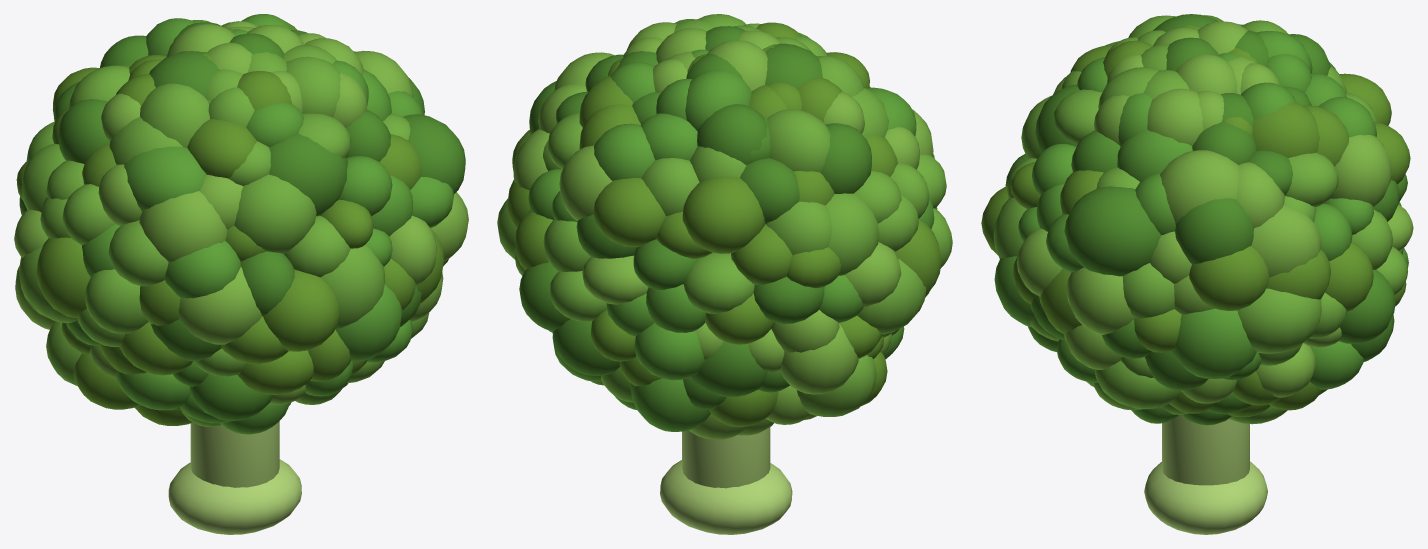
The model's file is Brocoli.glb.
The picture shows the model from 3 angles, left to right: view 1: azimuth 30°, elevation 25°; view 2: azimuth 150°, elevation 25°; view 3: azimuth 270°, elevation 25°; orthographic projection.
Parts seen in each view (by area): view 1: Brocoli_MESH; view 2: Brocoli_MESH; view 3: Brocoli_MESH.
Boxes of the visible parts, bbox=[...] form: Brocoli_MESH: bbox=[14, 14, 468, 534]; Brocoli_MESH: bbox=[497, 14, 952, 534]; Brocoli_MESH: bbox=[981, 14, 1413, 534].
Bounding box in the file's own units: 2.29 × 2.71 × 2.16.
